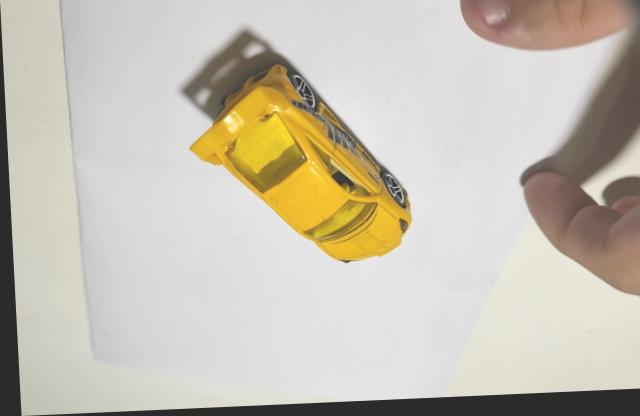07_RHLTURBO: (188, 64, 409, 265)
